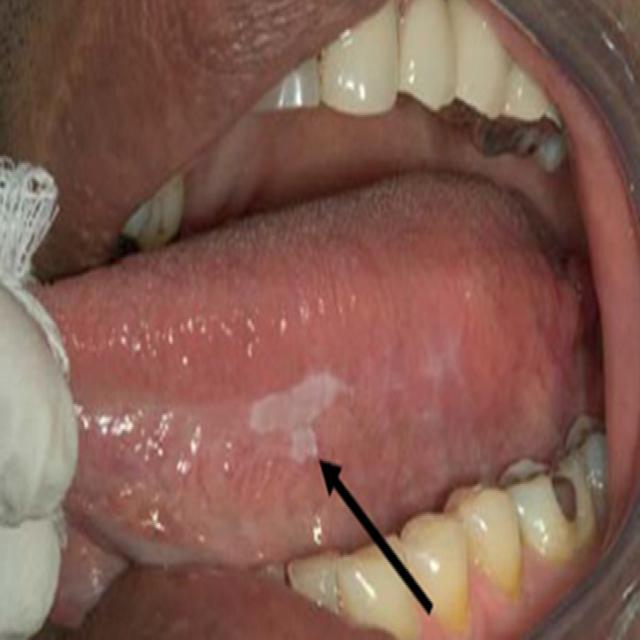normal_tongue: (145, 214, 518, 640)
